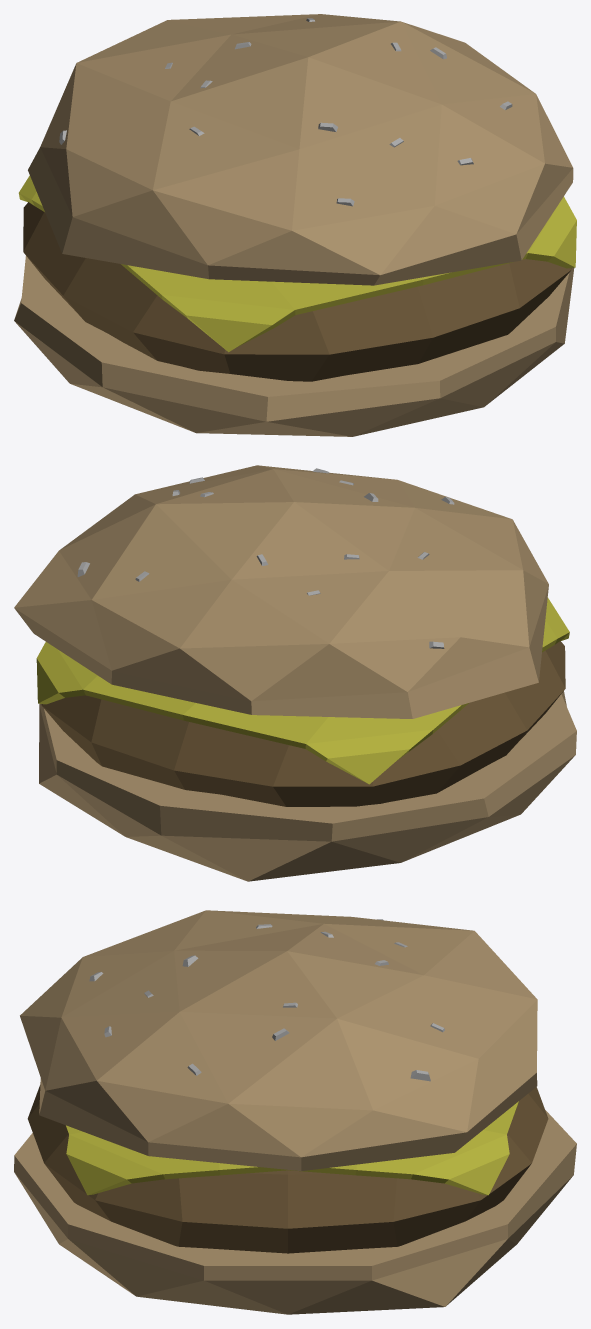
The model's file is Cheeseburger.glb.
3 renders of one model, top to bottom at view 1: azimuth 30°, elevation 25°; view 2: azimuth 150°, elevation 25°; view 3: azimuth 270°, elevation 25°, orthographic. The views are drawn at different scales.
Parts seen in each view (by area): view 1: Cheeseburger; view 2: Cheeseburger; view 3: Cheeseburger.
Part boxes in pixels (bbox=[...]): Cheeseburger: bbox=[14, 14, 576, 436]; Cheeseburger: bbox=[14, 465, 576, 881]; Cheeseburger: bbox=[14, 910, 576, 1314].
Size of the model in its own units: 0.2519 by 0.1614 by 0.265.
